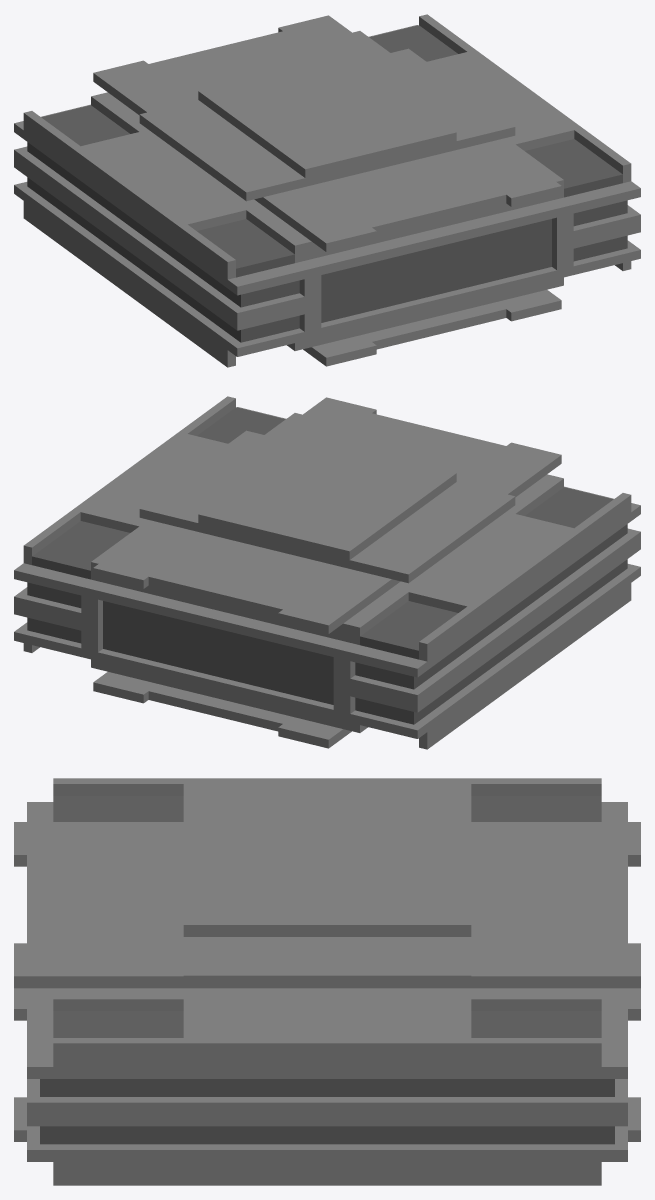
File: alien_saucer2b.obj
The picture shows the model from 3 angles, top to bottom: view 1: azimuth 30°, elevation 25°; view 2: azimuth 150°, elevation 25°; view 3: azimuth 270°, elevation 25°; orthographic projection. The views are drawn at different scales.
Size of the model in its own units: 48 by 18 by 48.
